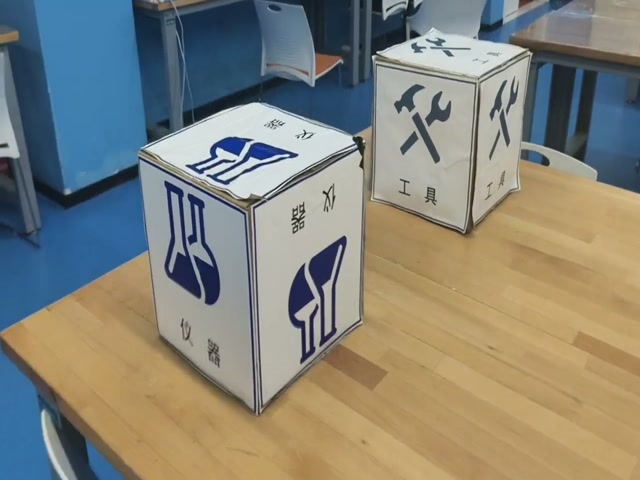Cube_ins: (139, 103, 361, 222)
Cube_tool: (374, 30, 530, 87)
